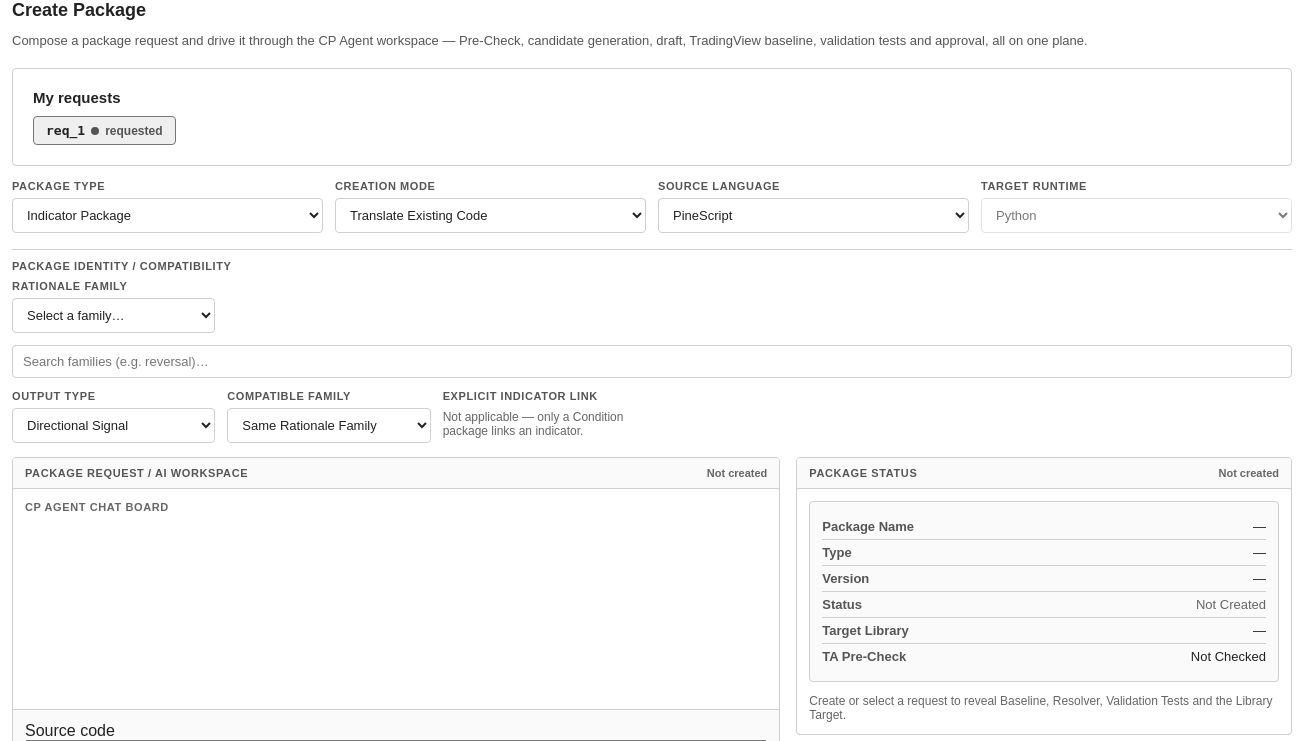
Scenario: Create Package page › gates Run Validation Tests on a server-truth draft, never a UI guess
Expected: the text "req_1" is shown, [46,123,85,138]
Click the button "req_1 requested" at coordinates (104, 130), box [33,116,176,145]
(page scrolled)
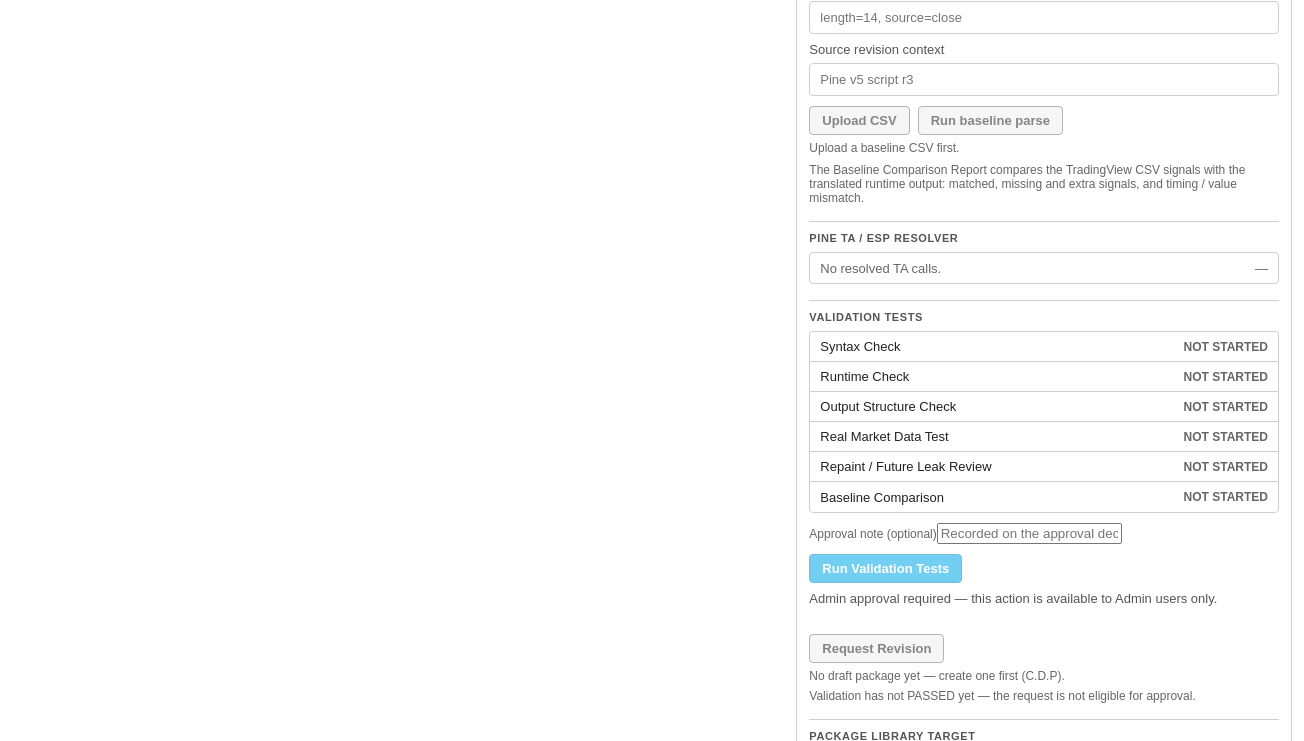
Now the button "Run Validation Tests" is disabled, box [809,554,962,583]
